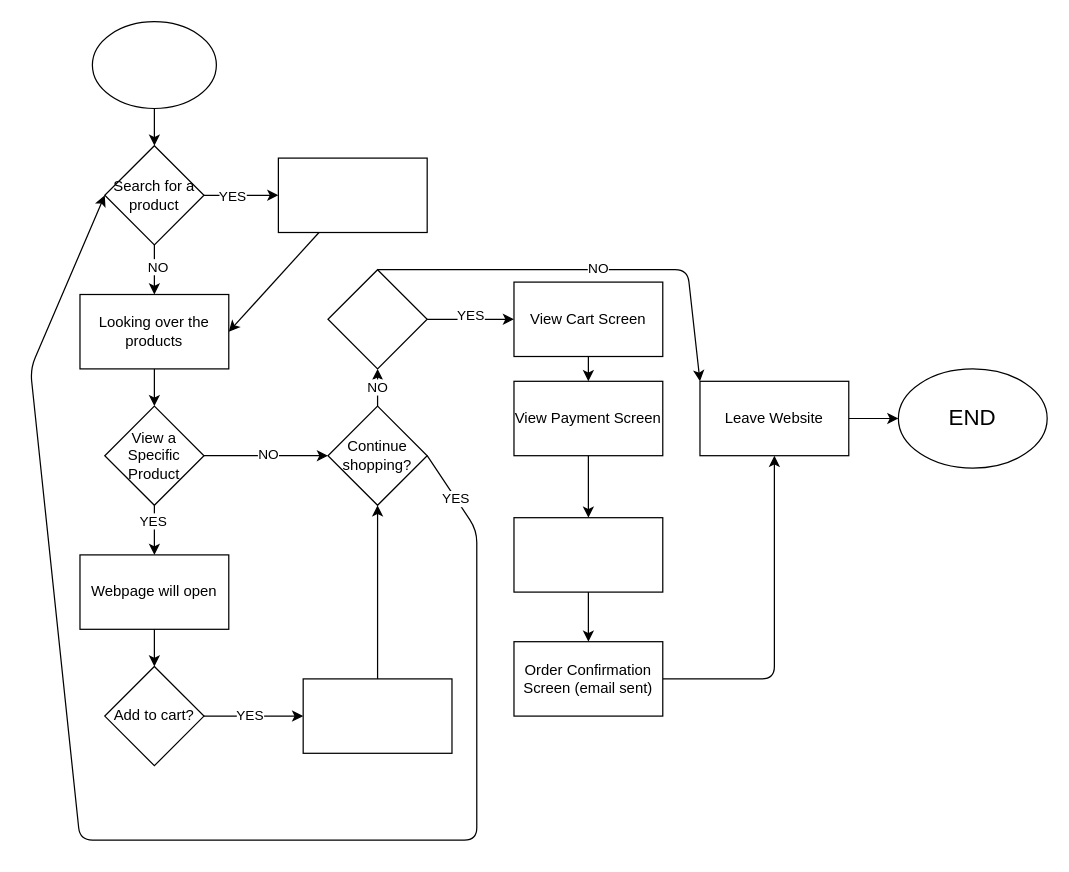
Image size: 1069x872. Some labels were removed from this diagram. Each missing label, with the centre of its shape:
"Added to cart Confirmation" belongs at point (377, 715).
"Checkout?" belongs at point (377, 318).
"Input Payment information" belongs at point (588, 554).
"Provide Input to the website" belongs at point (352, 194).
"START" belongs at point (153, 64).
